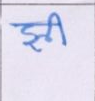i_matra: (50, 12, 69, 45)
